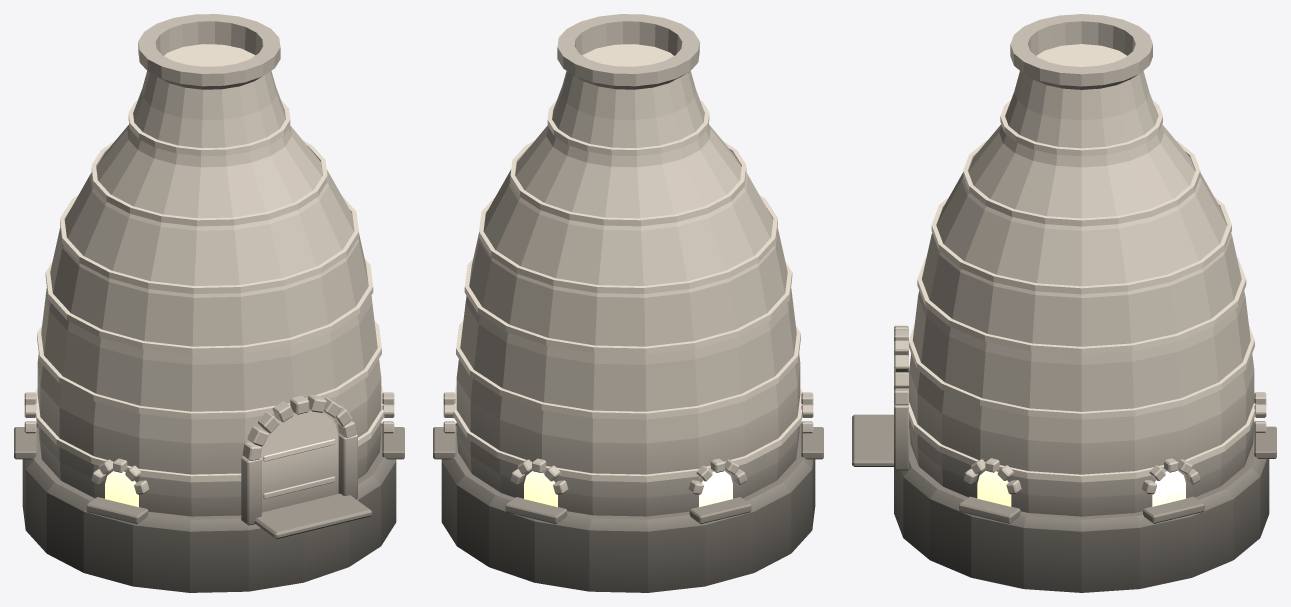
The model's file is SM_VK_Prop_BottleKiln.fbx.
The picture shows the model from 3 angles, left to right: view 1: azimuth 30°, elevation 25°; view 2: azimuth 150°, elevation 25°; view 3: azimuth 270°, elevation 25°; orthographic projection.
Visible parts, largest first — view 1: SM_VK_Prop_BottleKiln.001; view 2: SM_VK_Prop_BottleKiln.001; view 3: SM_VK_Prop_BottleKiln.001.
Part boxes in pixels (bbox=[...]): SM_VK_Prop_BottleKiln.001: bbox=[14, 14, 404, 592]; SM_VK_Prop_BottleKiln.001: bbox=[433, 14, 823, 592]; SM_VK_Prop_BottleKiln.001: bbox=[852, 14, 1276, 592].
Size of the model in its own units: 5 by 6.9 by 5.66.
